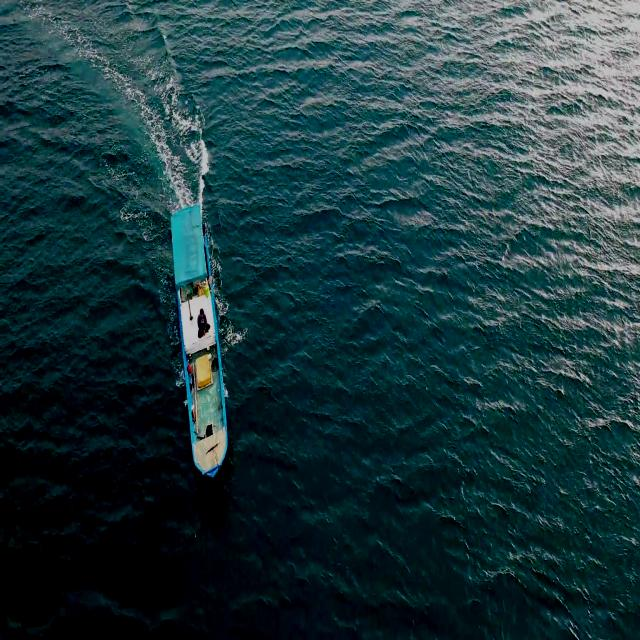ship: (160, 193, 242, 492)
